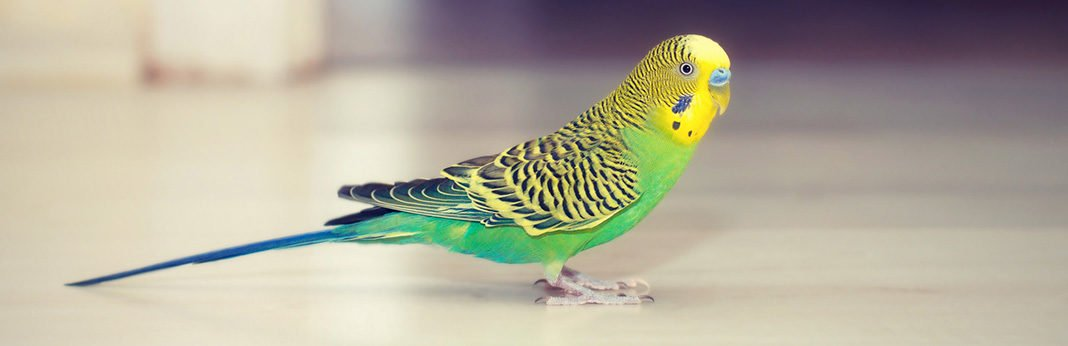budgie: (64, 30, 735, 310)
